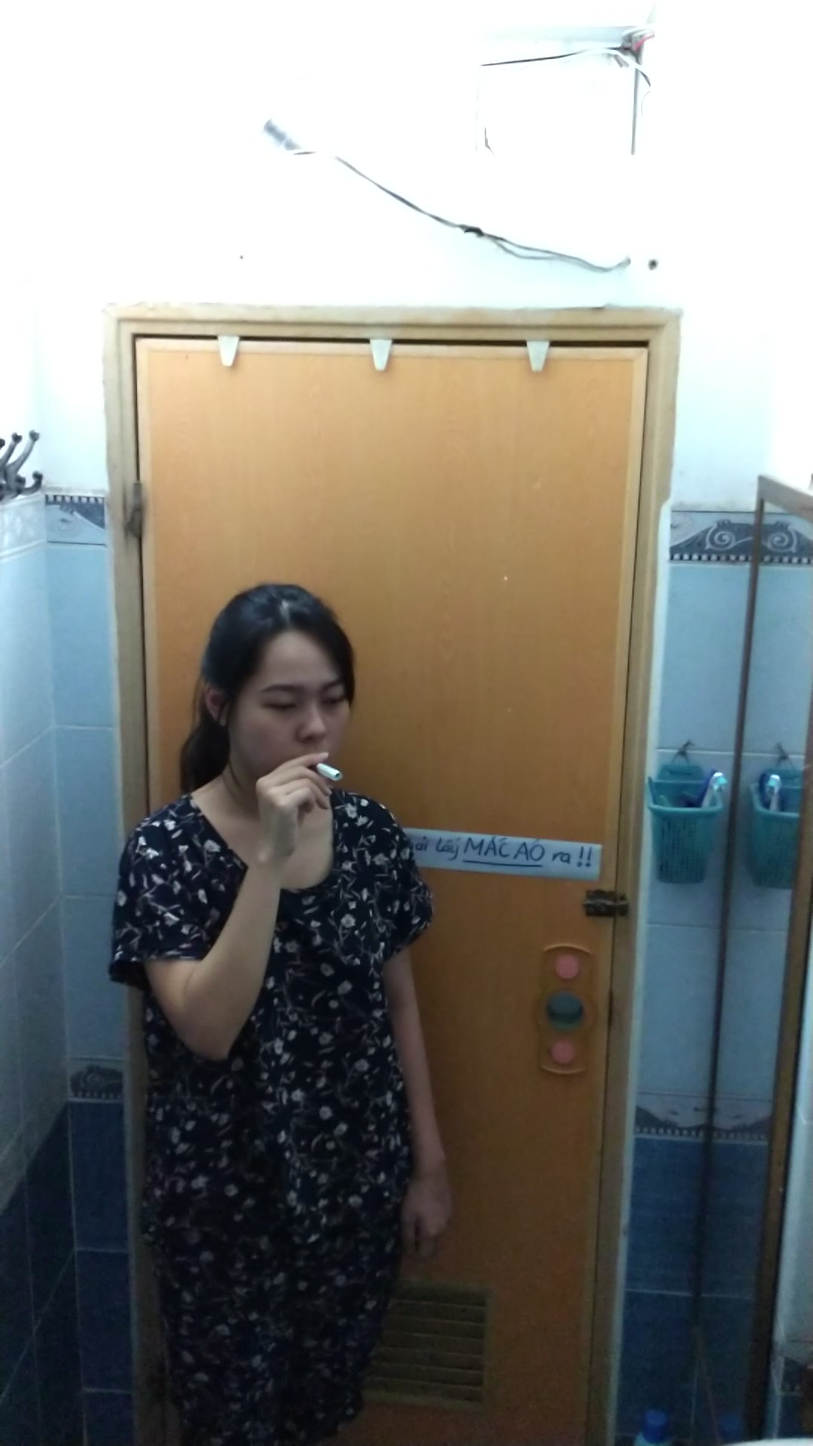cigarette: (315, 760, 346, 787)
person: (107, 575, 457, 1444)
